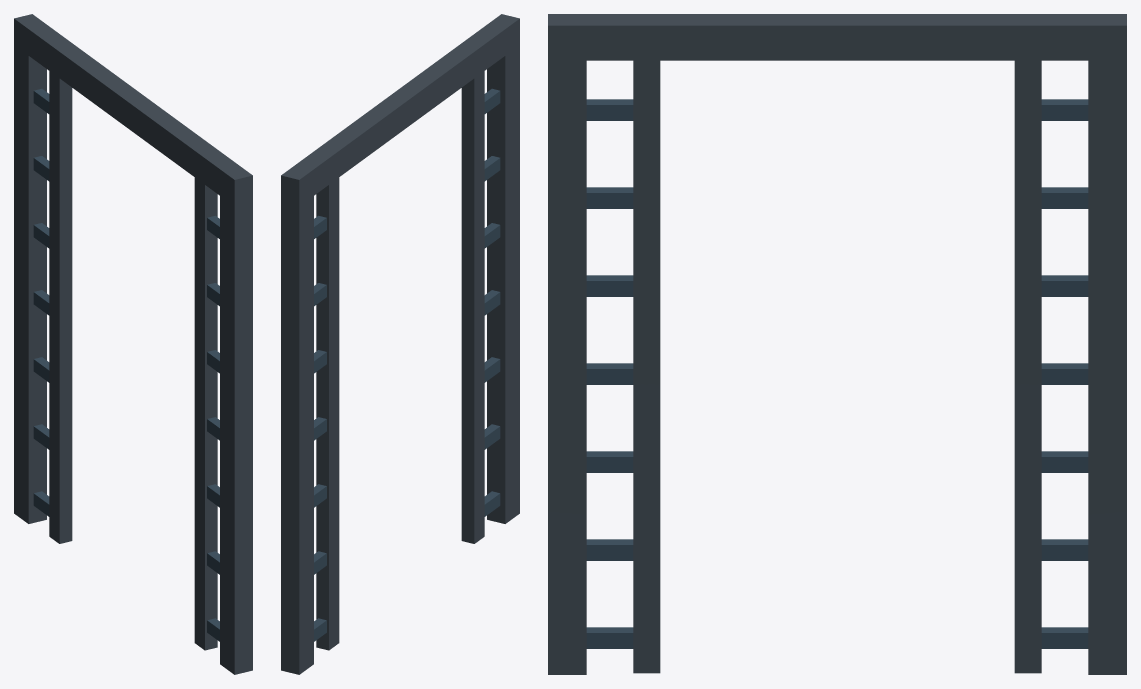
Rendered from Fence_1_H_1.fbx.
3 renders of one model, left to right at view 1: azimuth 30°, elevation 25°; view 2: azimuth 150°, elevation 25°; view 3: azimuth 270°, elevation 25°, orthographic. The views are drawn at different scales.
Visible parts, largest first — view 1: Fence_1_H_1; view 2: Fence_1_H_1; view 3: Fence_1_H_1.
Part boxes in pixels (box(x1,y1,x2,y2)): Fence_1_H_1: box(14, 14, 252, 674); Fence_1_H_1: box(281, 14, 519, 674); Fence_1_H_1: box(548, 14, 1126, 674).
Bounding box in the file's own units: 9.6 × 248 × 200.
